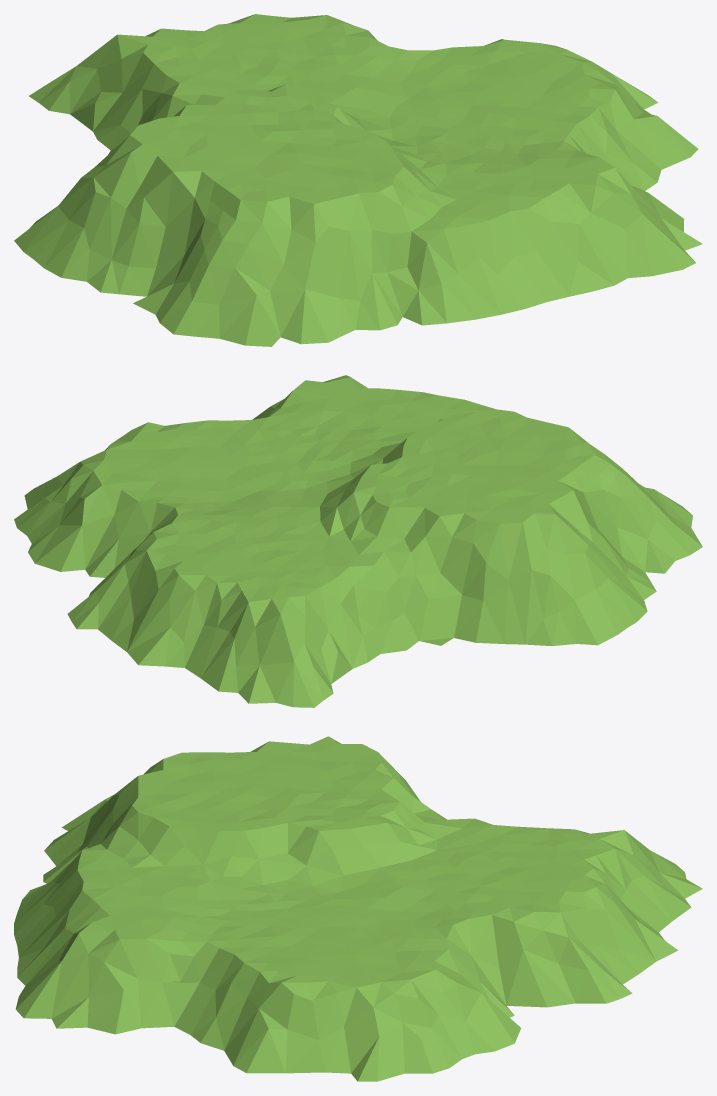
The model's file is MT_Island_L_b_12.fbx.
3 renders of one model, top to bottom at view 1: azimuth 30°, elevation 25°; view 2: azimuth 150°, elevation 25°; view 3: azimuth 270°, elevation 25°, orthographic. The views are drawn at different scales.
Parts seen in each view (by area): view 1: MT_Island_L_b_12; view 2: MT_Island_L_b_12; view 3: MT_Island_L_b_12.
Boxes of the visible parts, bbox=[...] form: MT_Island_L_b_12: bbox=[14, 14, 702, 346]; MT_Island_L_b_12: bbox=[14, 375, 702, 707]; MT_Island_L_b_12: bbox=[14, 736, 702, 1081].
Bounding box in the file's own units: 8778 × 1272 × 8634.
